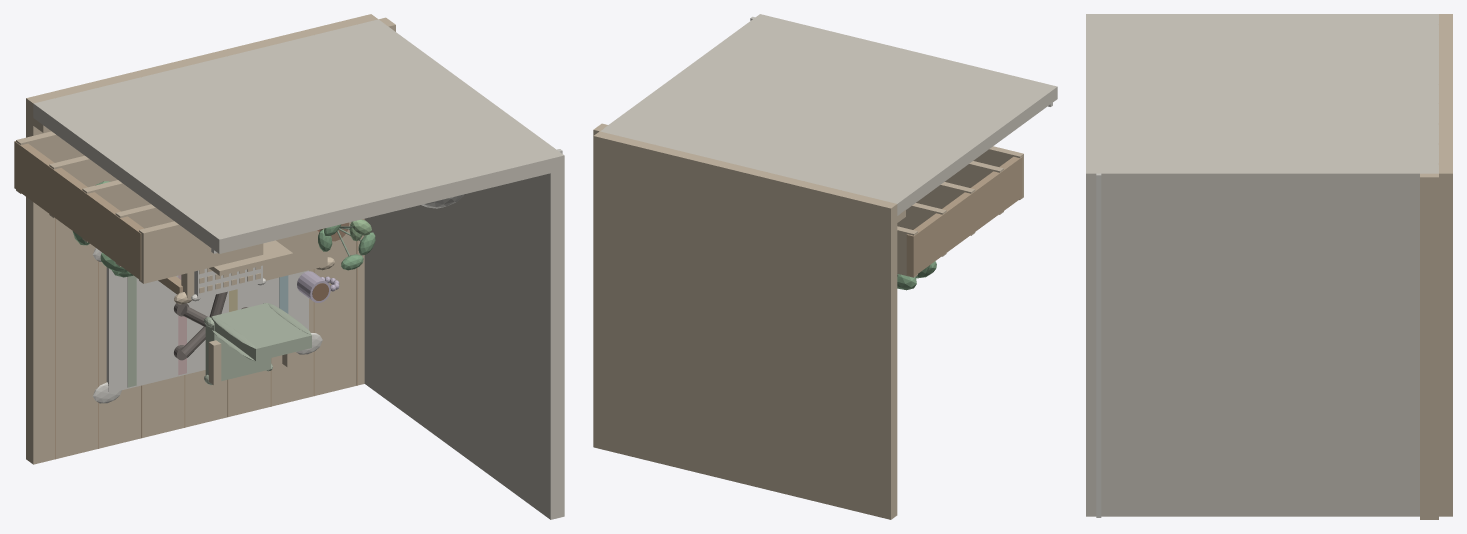
Rendered from sample_workspace.glb.
The picture shows the model from 3 angles, left to right: view 1: azimuth 30°, elevation 25°; view 2: azimuth 150°, elevation 25°; view 3: azimuth 270°, elevation 25°; orthographic projection. The views are drawn at different scales.
Parts seen in each view (by area): view 1: back_wall__wall, right_wall__wall, floor__floor_base, rug__rug_core, shelf__side_-0.49, shelf__shelf_4, chair__backrest_core, desk__desktop_core, chair__seat_core, laptop__keyboard_base_core, rug__stripe_0, laptop__screen_back (+4 smaller); view 2: floor__floor_base, back_wall__wall, shelf__side_-0.49, shelf__shelf_2, shelf__shelf_3, shelf__shelf_1, shelf__shelf_4, shelf__shelf_0; view 3: right_wall__wall, back_wall__wall, floor__floor_base, right_wall__baseboard, right_wall__trim_top.
Part boxes in pixels (x1,y1,x2,y2): back_wall__wall: (33,19,564,253); right_wall__wall: (364,21,564,519); floor__floor_base: (26,14,377,464); rug__rug_core: (106,267,308,393); shelf__side_-0.49: (14,141,143,280); shelf__shelf_4: (139,221,263,283); chair__backrest_core: (211,303,311,361); desk__desktop_core: (181,230,327,299); chair__seat_core: (205,325,271,381); laptop__keyboard_base_core: (194,265,262,298); rug__stripe_0: (127,275,136,387); laptop__screen_back: (209,240,293,275); floor__floor_base: (593,131,897,519); back_wall__wall: (600,14,1057,215); shelf__side_-0.49: (906,156,1022,276); shelf__shelf_2: (916,182,975,235); shelf__shelf_3: (945,161,1003,214); shelf__shelf_1: (897,203,946,256); shelf__shelf_4: (973,146,1023,199); shelf__shelf_0: (897,226,917,277); right_wall__wall: (1086,167,1438,516); back_wall__wall: (1086,14,1438,187); floor__floor_base: (1439,14,1452,516); right_wall__baseboard: (1420,173,1438,519); right_wall__trim_top: (1096,173,1101,517).
Size of the model in its own units: 3.23 by 3 by 2.91.
